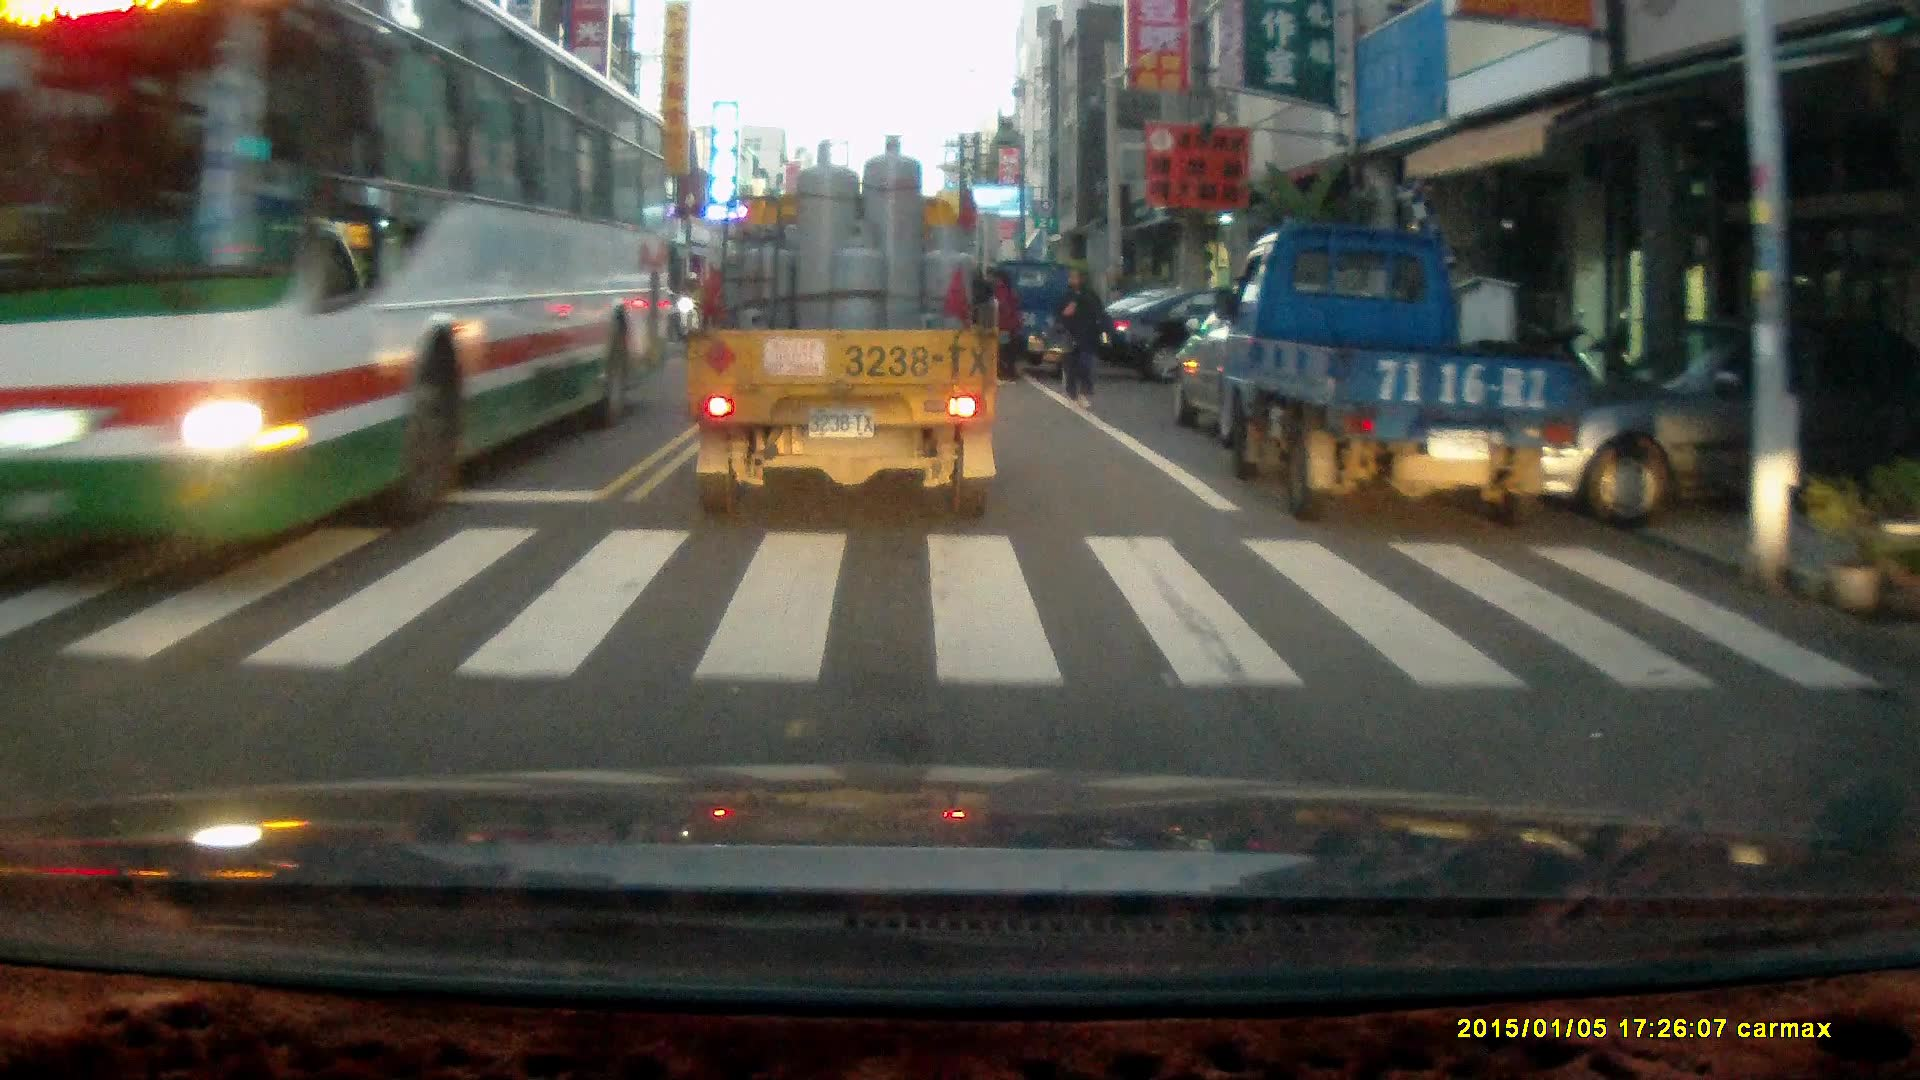pedestrian: (1054, 264, 1107, 407), (987, 264, 1022, 383)
vehicle: (1, 18, 658, 544), (683, 133, 1006, 524), (1206, 220, 1586, 525), (1495, 323, 1744, 516), (1102, 269, 1333, 383), (982, 260, 1100, 384)
